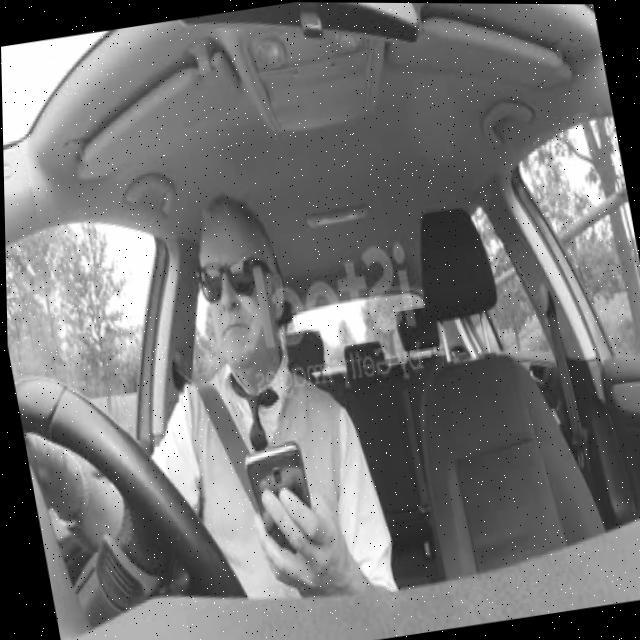PhoneCall: (240, 439, 320, 575)
